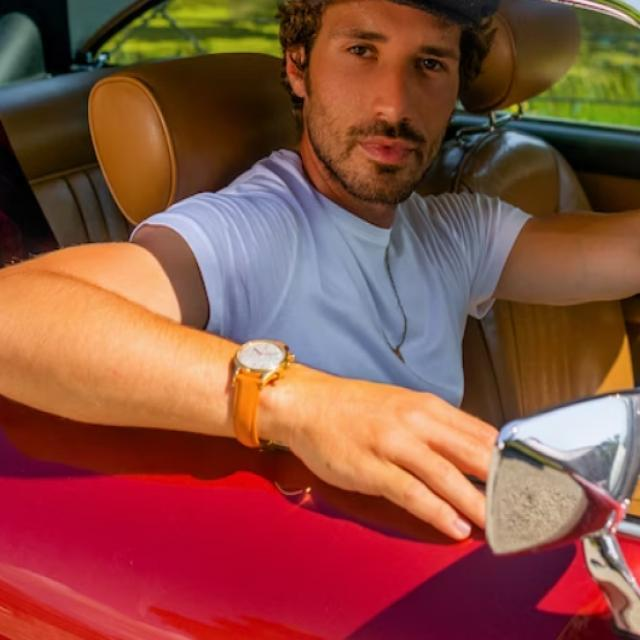Watch: (218, 335, 294, 452)
